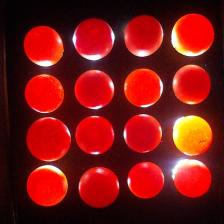fertile: (25, 116, 72, 161), (73, 16, 115, 60), (78, 166, 120, 208), (123, 15, 164, 58), (74, 69, 114, 111), (75, 115, 115, 155), (122, 114, 162, 153), (172, 64, 211, 104)
infertile: (171, 14, 215, 57), (26, 165, 68, 207), (24, 25, 64, 67), (172, 115, 213, 155), (25, 73, 65, 113), (125, 68, 164, 108), (174, 158, 212, 197), (127, 161, 165, 199)
